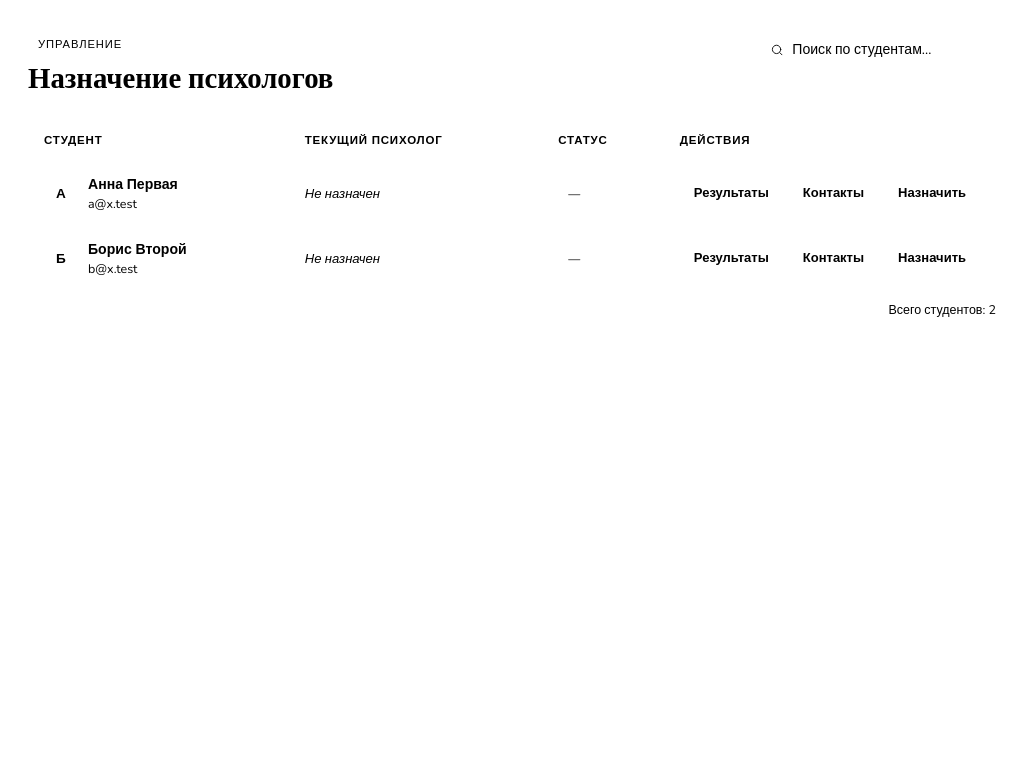
Test: закрытие диалога убирает контакты со страницы
Click the button with aria-label "Контакты: Анна Первая". click: (833, 194)
box: left=789, top=177, right=878, bottom=211
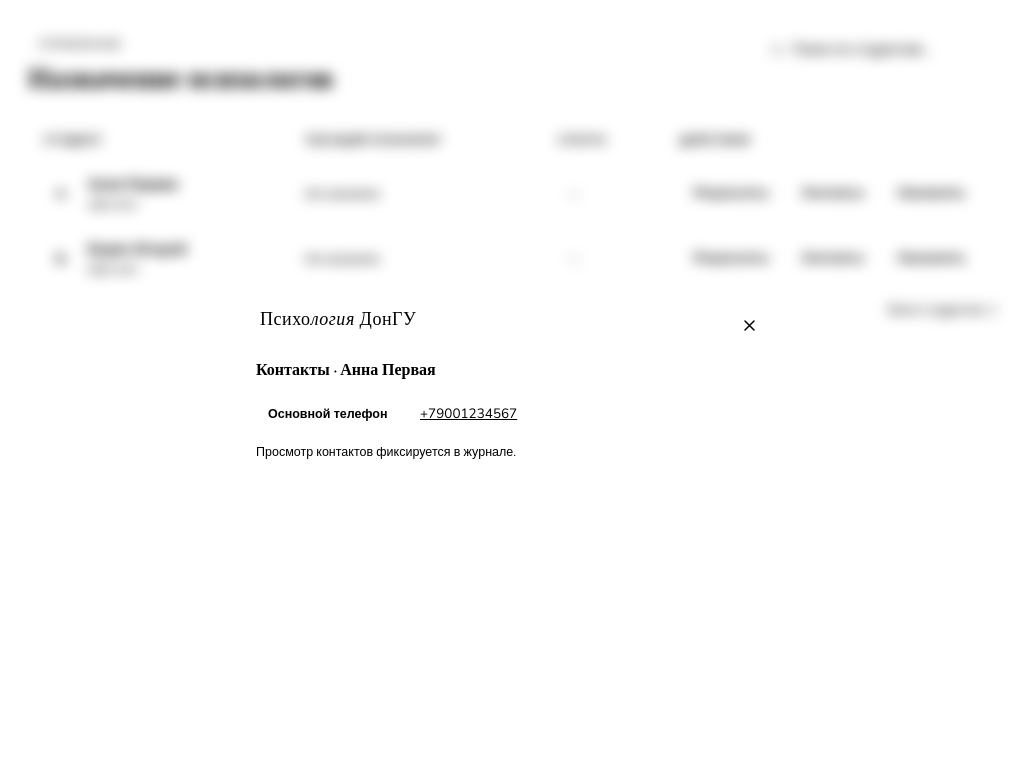
Click the button named "Закрыть". click: (749, 325)
box: left=734, top=310, right=764, bottom=340
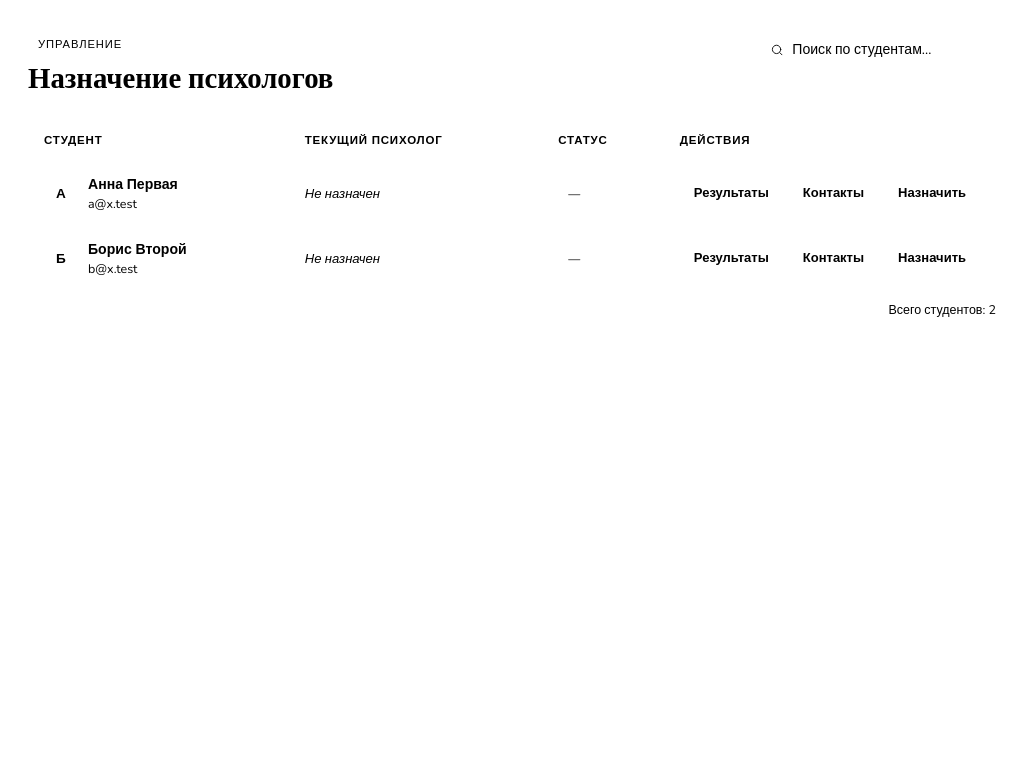
Expected: the link "+79001234567" is gone
